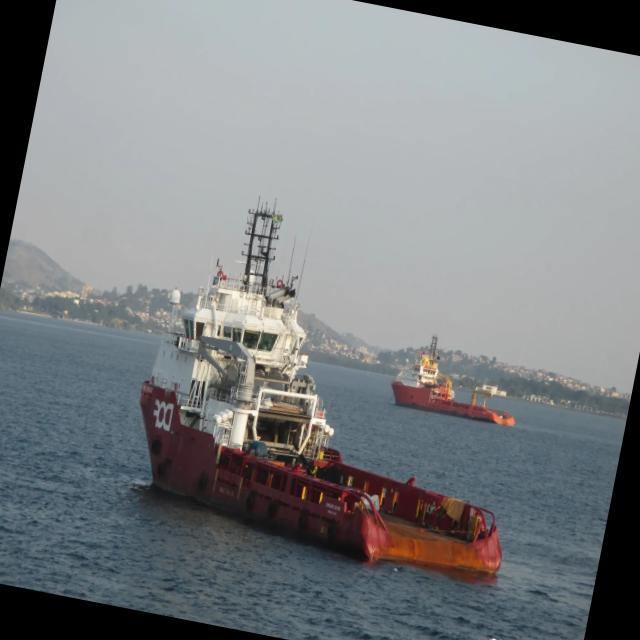Offshore: (140, 210, 502, 574), (392, 336, 514, 426)
